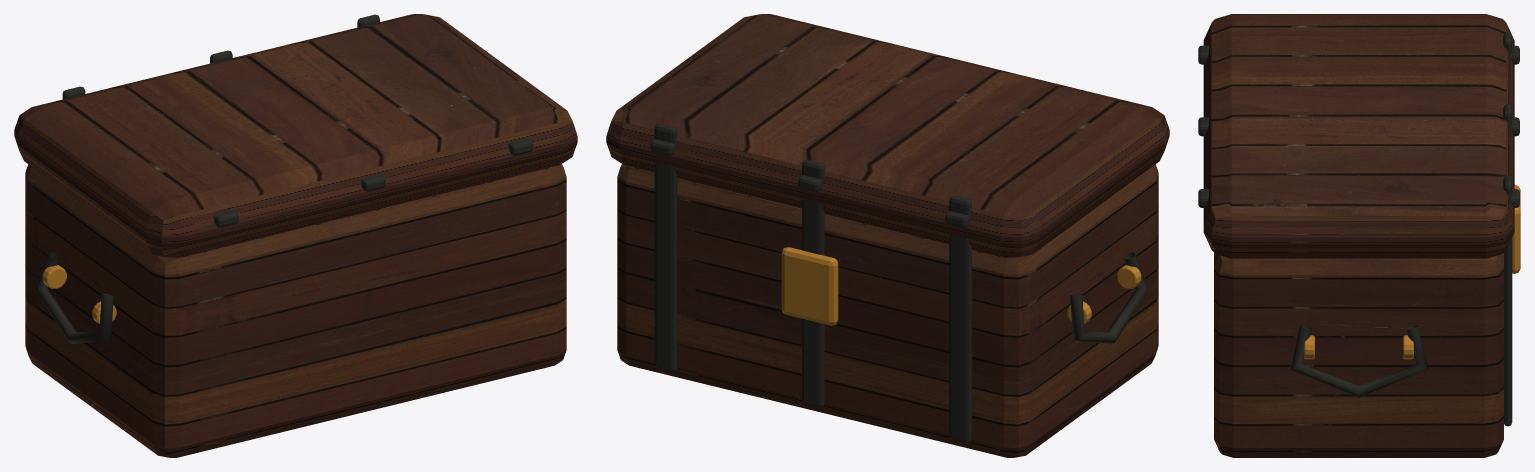
The model's file is sea-chest.glb.
The picture shows the model from 3 angles, left to right: view 1: azimuth 30°, elevation 25°; view 2: azimuth 150°, elevation 25°; view 3: azimuth 270°, elevation 25°; orthographic projection.
Visible parts, largest first — view 1: SeaChestBody, SeaChestLid, SeaChestHandle_-1; view 2: SeaChestBody, SeaChestLid, SeaChestIronStrap_0.48, SeaChestIronStrap_-0.48, SeaChestLock, SeaChestIronStrap_0, SeaChestHandle_-1; view 3: SeaChestLid, SeaChestBody, SeaChestHandle_1, SeaChestIronStrap_0.48, SeaChestLock, SeaChestLidStrap_-0.48, SeaChestLidStrap_0, SeaChestLidStrap_0.48.
Part boxes in pixels (x1,y1,x2,y2): SeaChestBody: (25, 164, 566, 457); SeaChestLid: (14, 14, 577, 257); SeaChestHandle_-1: (35, 252, 113, 343); SeaChestBody: (617, 164, 1158, 457); SeaChestLid: (606, 14, 1169, 257); SeaChestIronStrap_0.48: (654, 124, 677, 371); SeaChestIronStrap_-0.48: (949, 196, 971, 443); SeaChestLock: (781, 247, 838, 325); SeaChestIronStrap_0: (802, 160, 824, 407); SeaChestHandle_-1: (1070, 252, 1148, 343); SeaChestLid: (1203, 14, 1514, 258); SeaChestBody: (1214, 253, 1503, 457); SeaChestHandle_1: (1289, 325, 1428, 397); SeaChestIronStrap_0.48: (1503, 175, 1512, 426); SeaChestLock: (1512, 185, 1520, 273); SeaChestLidStrap_-0.48: (1198, 45, 1519, 64); SeaChestLidStrap_0: (1198, 117, 1519, 136); SeaChestLidStrap_0.48: (1198, 189, 1519, 207).
Bounding box in the file's own units: 1.49 × 0.805 × 0.9125.
Materials: 3 (1 with a texture image).
